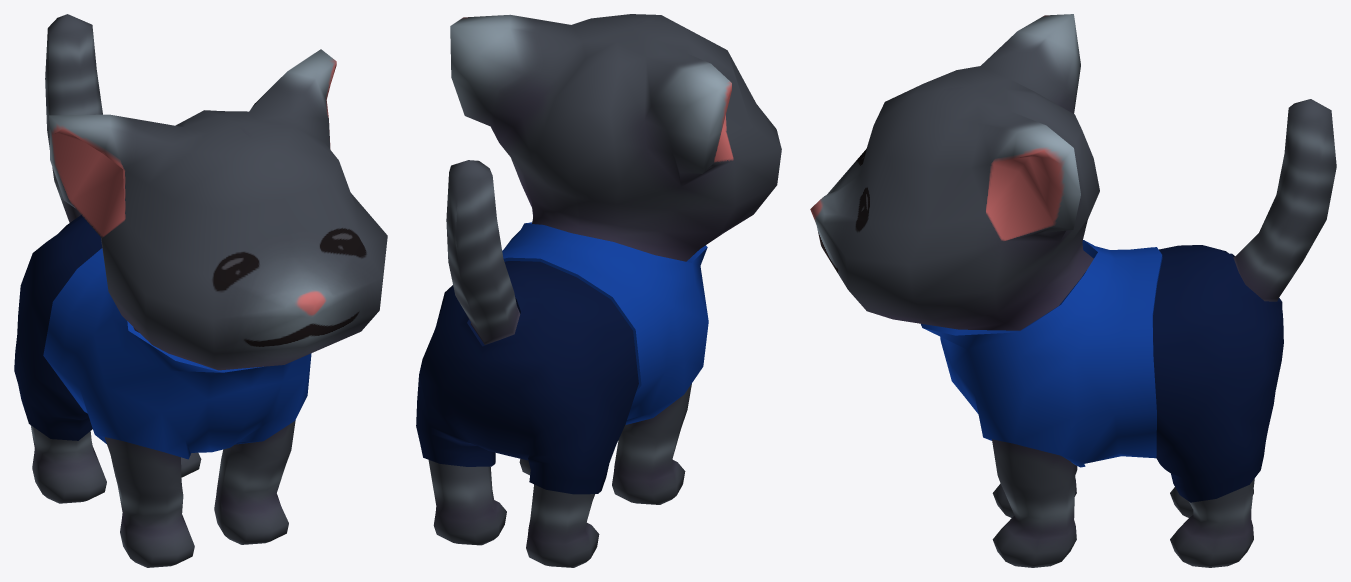
Rendered from Athlete Cat04.fbx.
3 renders of one model, left to right at view 1: azimuth 30°, elevation 25°; view 2: azimuth 150°, elevation 25°; view 3: azimuth 270°, elevation 25°, orthographic. The views are drawn at different scales.
Parts seen in each view (by area): view 1: Cat_Base003, Athlete_Cat_Jersey, Athlete_Cat_Jersey_Shorts; view 2: Cat_Base003, Athlete_Cat_Jersey_Shorts, Athlete_Cat_Jersey; view 3: Cat_Base003, Athlete_Cat_Jersey, Athlete_Cat_Jersey_Shorts.
Boxes of the visible parts, x1=… form: Cat_Base003: x1=30, y1=14, x2=387, y2=567; Athlete_Cat_Jersey: x1=43, y1=248, x2=311, y2=459; Athlete_Cat_Jersey_Shorts: x1=14, y1=215, x2=102, y2=440; Cat_Base003: x1=428, y1=14, x2=781, y2=567; Athlete_Cat_Jersey_Shorts: x1=416, y1=261, x2=638, y2=494; Athlete_Cat_Jersey: x1=502, y1=222, x2=708, y2=424; Cat_Base003: x1=810, y1=14, x2=1336, y2=567; Athlete_Cat_Jersey: x1=921, y1=240, x2=1162, y2=467; Athlete_Cat_Jersey_Shorts: x1=1153, y1=245, x2=1283, y2=502.
Size of the model in its own units: 1.75 by 2.83 by 2.68.
3 materials, 1 textured.
